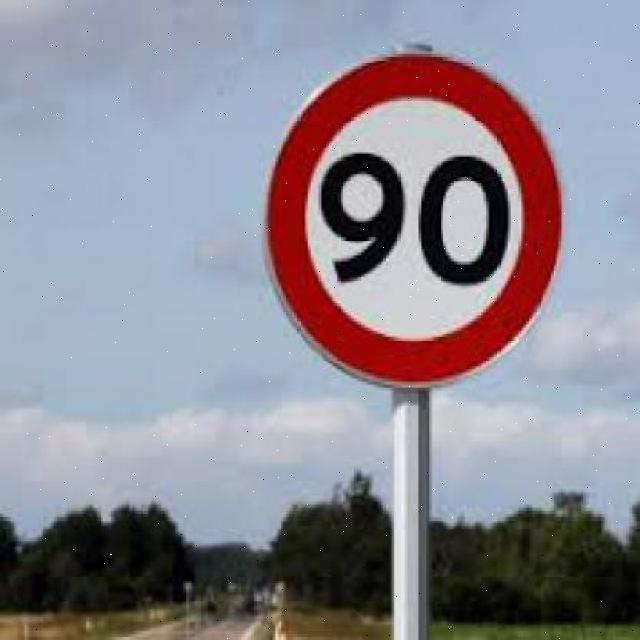speed limit 90: (261, 49, 564, 389)
